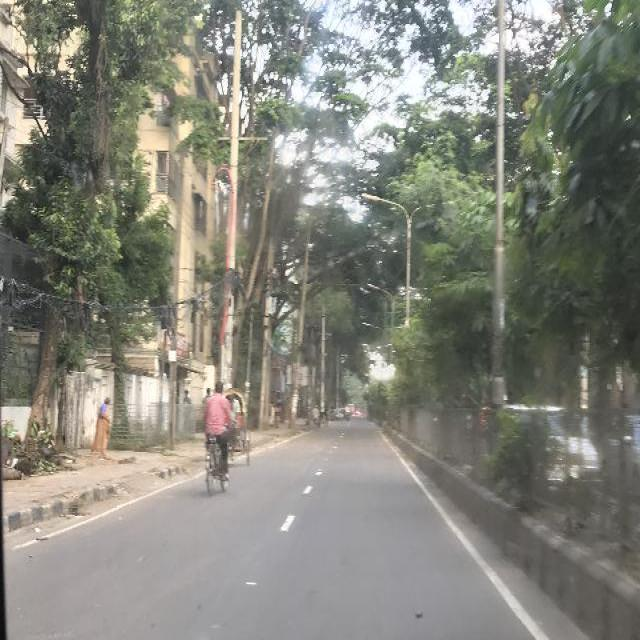bicycle: (200, 431, 230, 500)
rickshaw: (231, 385, 251, 468)
